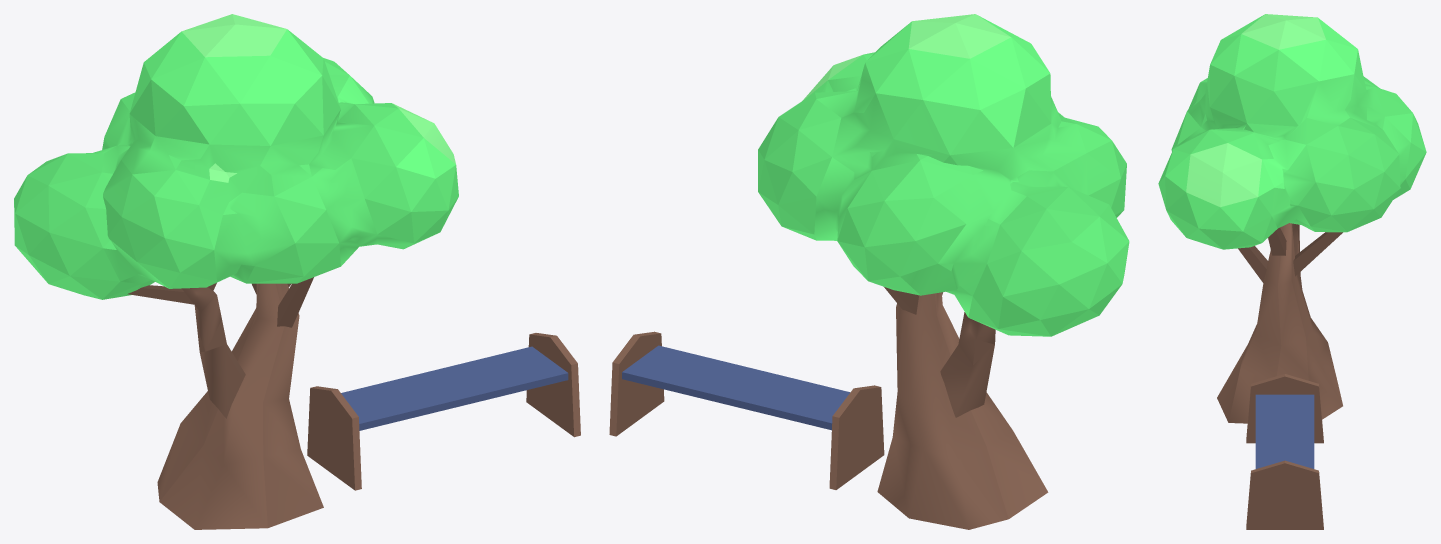
File: loc_1.gltf
3 renders of one model, left to right at view 1: azimuth 30°, elevation 25°; view 2: azimuth 150°, elevation 25°; view 3: azimuth 270°, elevation 25°, orthographic. The views are drawn at different scales.
Visible parts, largest first — view 1: tree, bench; view 2: tree, bench; view 3: tree, bench.
Boxes of the visible parts, x1,y1,x2,y2 form: tree: (14, 14, 458, 529); bench: (307, 333, 580, 490); tree: (758, 14, 1129, 529); bench: (609, 331, 884, 489); tree: (1158, 14, 1426, 423); bench: (1246, 374, 1323, 529).
Bounding box in the file's own units: 5.65 × 5.02 × 3.19.
